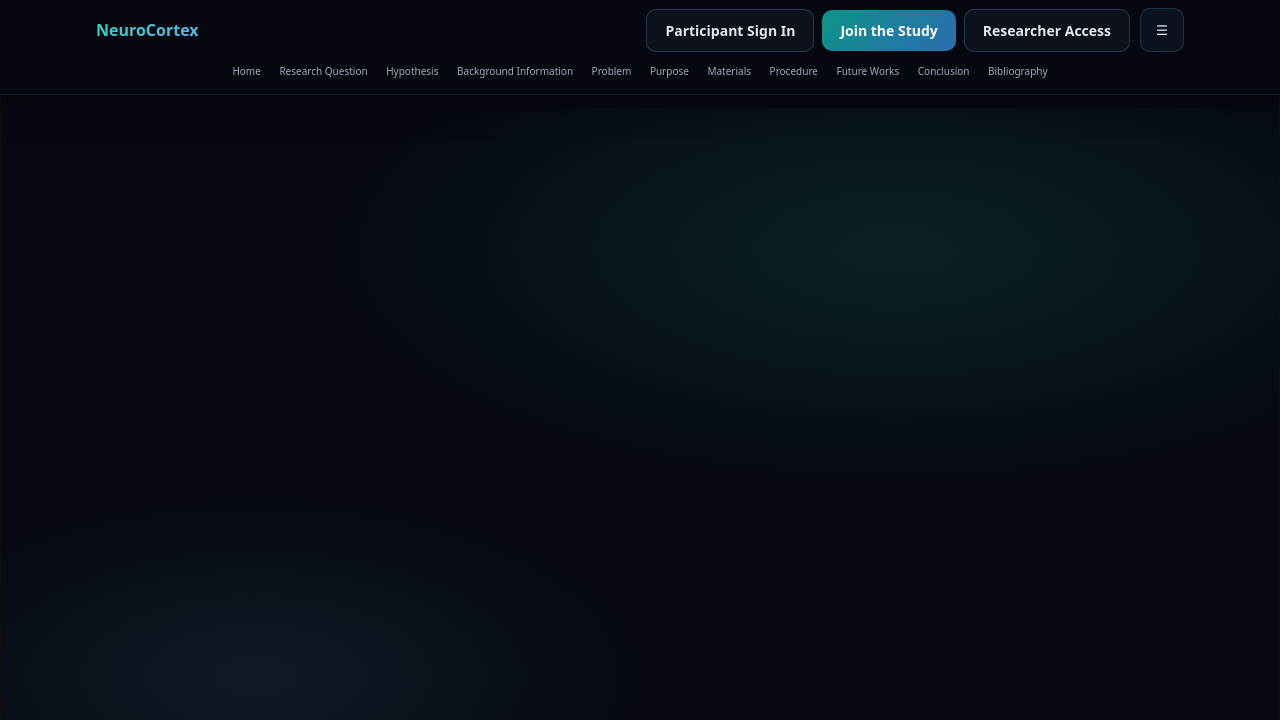
Scenario: App routing › navigates Participant Sign In to /participant/sign-in
Click the button "Participant Sign In" at (730, 30), box [646,8,814,52]
(page scrolled)
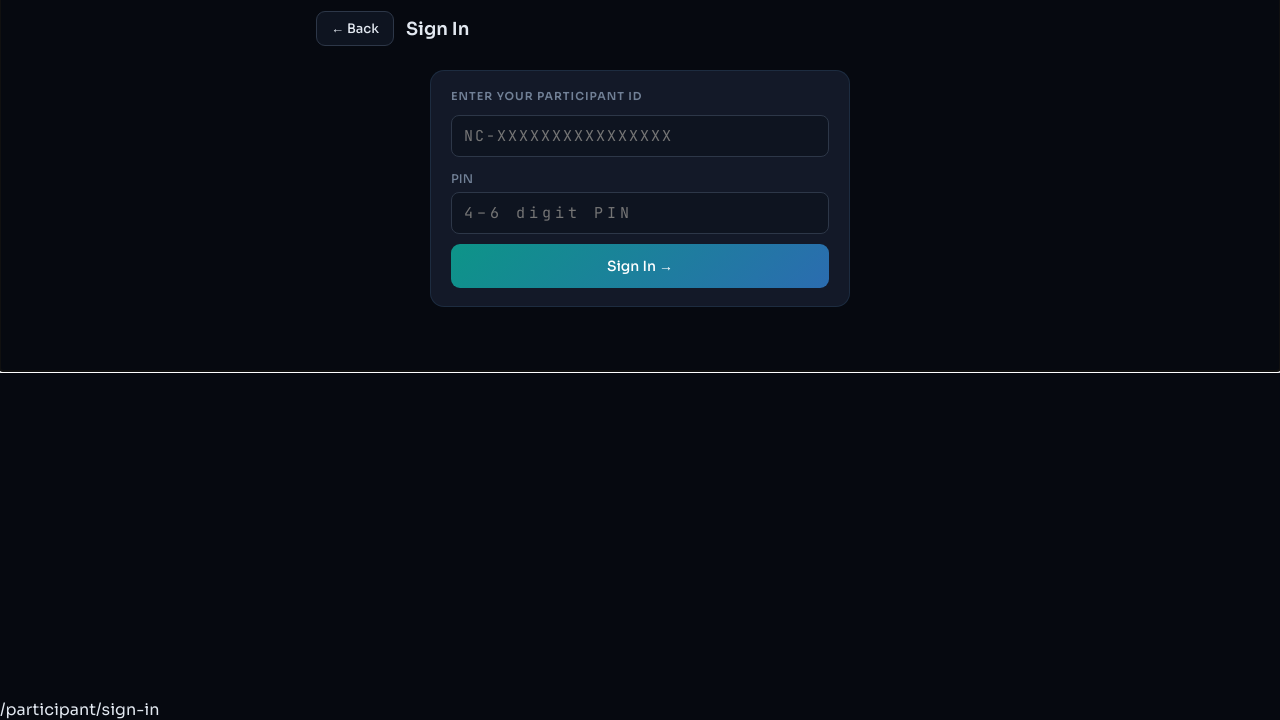
Expected: the text with test id "pathname" reads "/participant/sign-in", [0,699,159,719]
